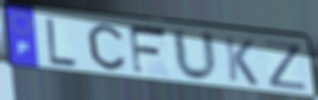C: (86, 22, 128, 72)
F: (126, 23, 172, 78)
K: (222, 35, 261, 88)
L: (44, 15, 79, 70)
U: (170, 26, 221, 85)
Z: (262, 39, 310, 93)
